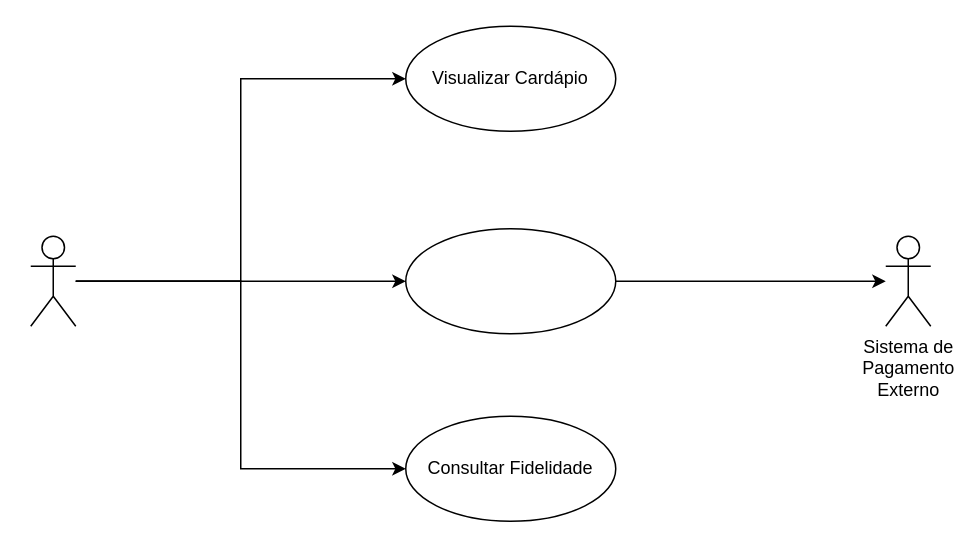
The diagram is 980 pixels wide and 548 high, and some of its shapes have lost their labels. The centre of each missing label's shape, as x and y in pixels:
Cliente: the point at 52,280
Realizar Pedido: the point at 510,280
